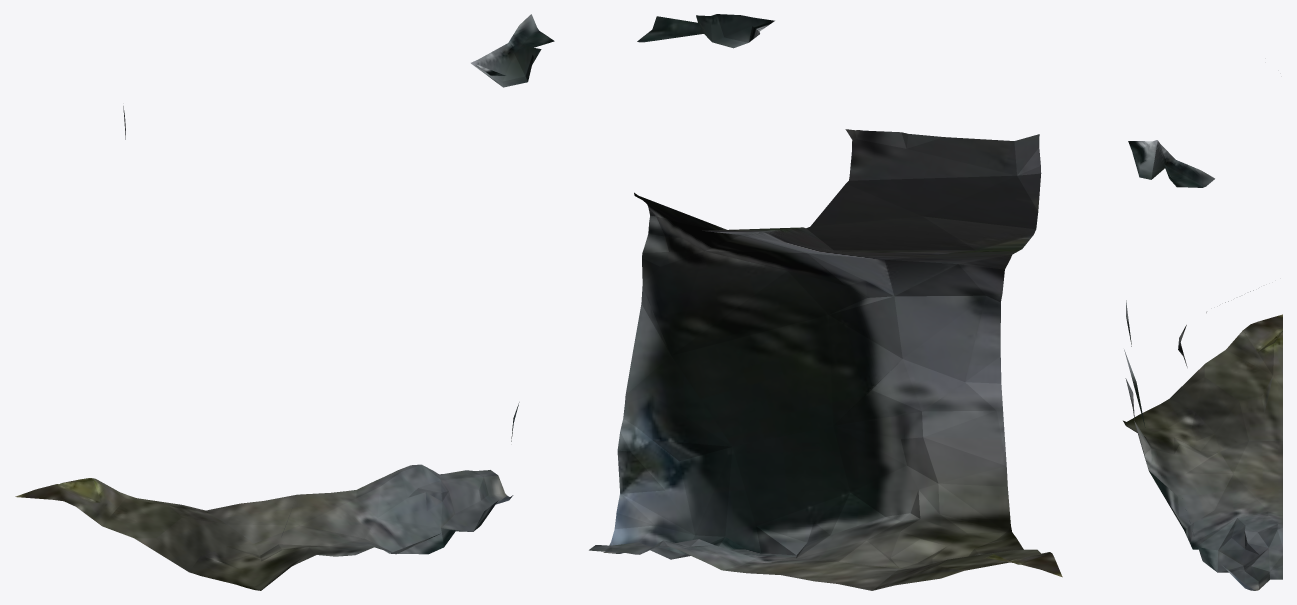
The picture shows the model from 3 angles, left to right: view 1: azimuth 30°, elevation 25°; view 2: azimuth 150°, elevation 25°; view 3: azimuth 270°, elevation 25°; orthographic projection. The views are drawn at different scales.
Size of the model in its own units: 2.97 by 3.02 by 1.26.
2 materials, 2 textured.
